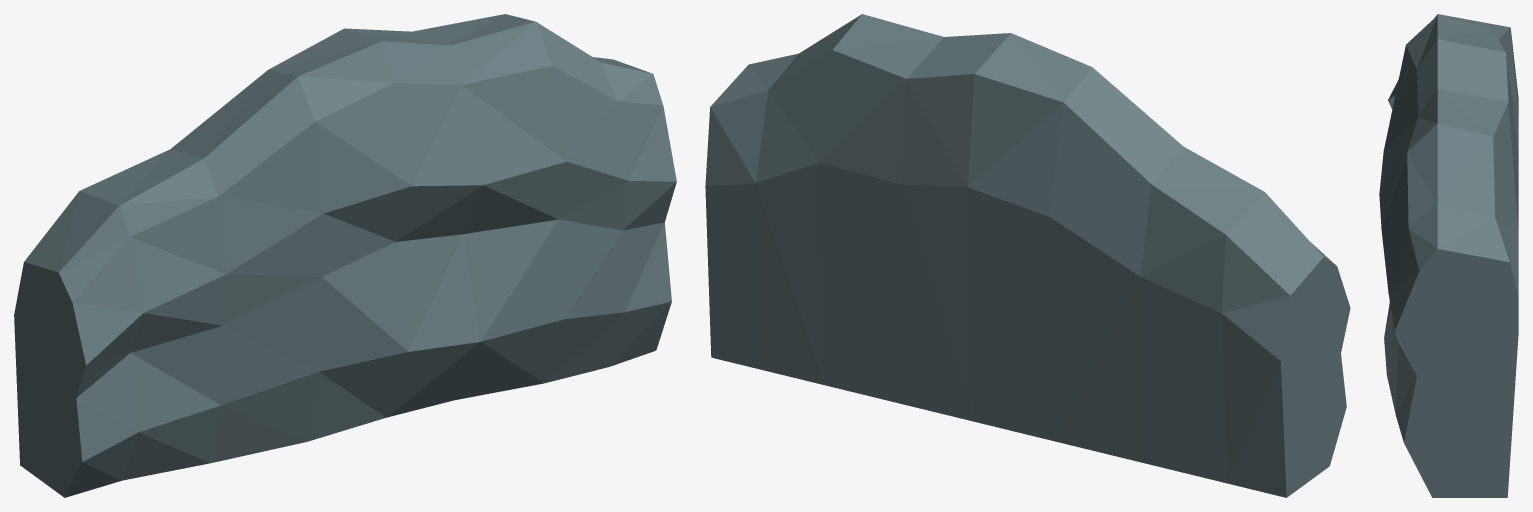
File: CliffPanel.fbx
The picture shows the model from 3 angles, left to right: view 1: azimuth 30°, elevation 25°; view 2: azimuth 150°, elevation 25°; view 3: azimuth 270°, elevation 25°; orthographic projection. The views are drawn at different scales.
Parts seen in each view (by area): view 1: CliffPanel; view 2: CliffPanel; view 3: CliffPanel.
Boxes of the visible parts, box(x1,y1,x2,y2) form: CliffPanel: box(14, 14, 676, 497); CliffPanel: box(705, 14, 1350, 497); CliffPanel: box(1379, 14, 1518, 497).
Bounding box in the file's own units: 800 × 480 × 179.
